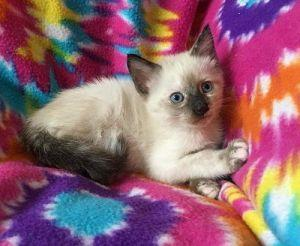siamese: (124, 23, 236, 138)
